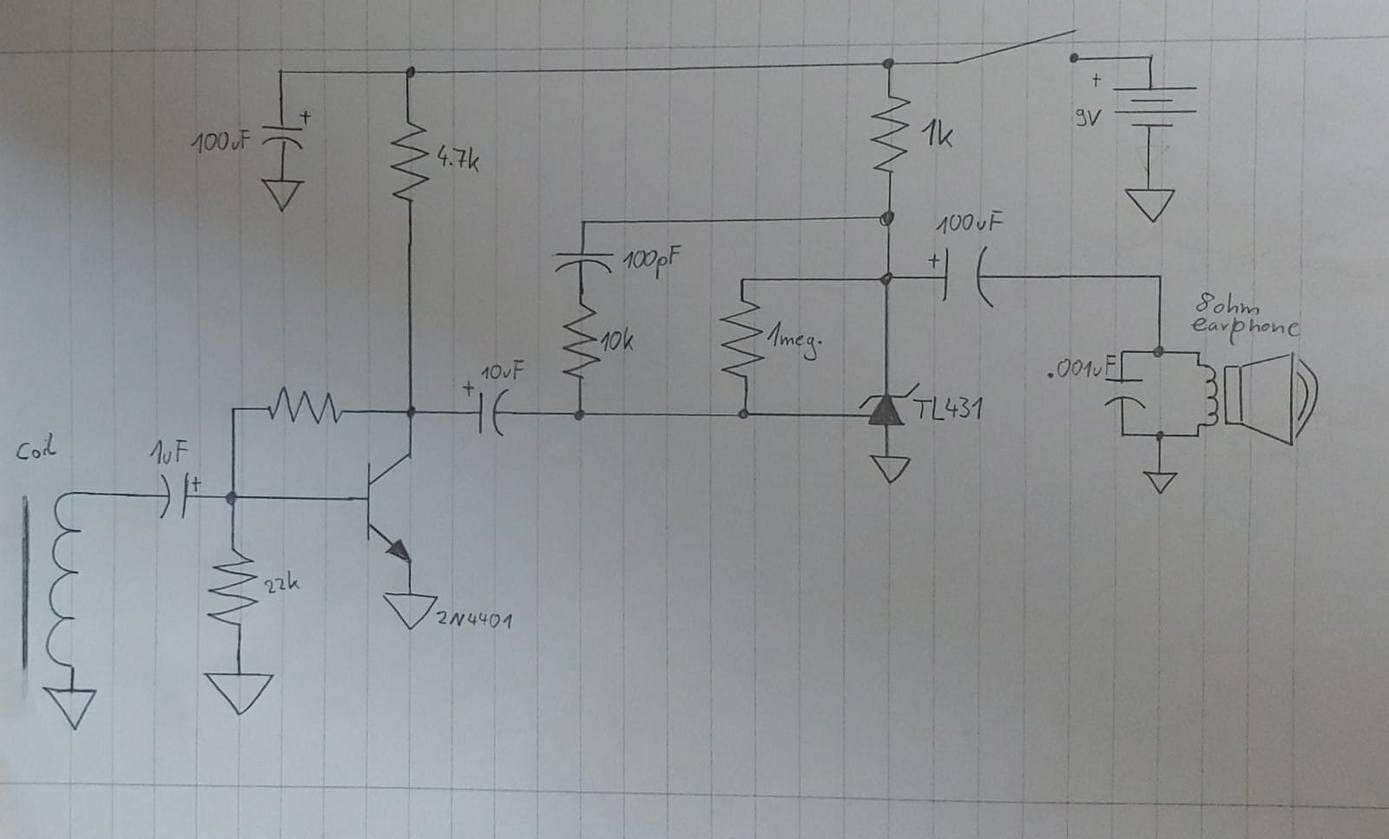capacitor.polarized: (926, 244, 997, 310), (461, 379, 511, 439), (155, 469, 205, 521), (259, 109, 315, 151)
capacitor.unpolarized: (548, 247, 619, 273), (1101, 377, 1148, 410)
gnd: (201, 668, 278, 718), (43, 685, 98, 733), (380, 589, 439, 631), (1122, 185, 1177, 224), (258, 175, 306, 213), (867, 452, 913, 486), (1141, 469, 1180, 495)
inductor.ferrite: (15, 486, 89, 676)
junction: (221, 486, 246, 511), (875, 206, 899, 230), (400, 60, 421, 83), (876, 54, 899, 74), (734, 402, 754, 424), (877, 267, 896, 289), (401, 400, 420, 421), (570, 405, 589, 424), (273, 62, 291, 80), (225, 400, 241, 419), (1142, 50, 1158, 65), (1150, 344, 1166, 358), (1153, 429, 1166, 442), (577, 216, 589, 229), (736, 273, 748, 285), (1154, 271, 1166, 282), (1118, 347, 1128, 357), (1118, 429, 1127, 439)
resistor: (206, 545, 259, 628), (718, 296, 765, 383), (387, 116, 431, 205), (868, 89, 912, 176), (558, 298, 600, 385), (264, 383, 346, 426)
speaker: (1192, 348, 1322, 449)
switch: (955, 27, 1083, 66)
text: (1189, 316, 1302, 345), (764, 318, 825, 363), (618, 242, 684, 281), (1044, 352, 1118, 382), (912, 393, 986, 423), (932, 207, 1004, 236), (431, 607, 515, 631), (187, 126, 253, 155), (1194, 288, 1262, 316), (432, 141, 484, 176), (12, 430, 60, 463), (918, 115, 958, 149), (146, 436, 189, 466), (474, 359, 527, 383), (599, 325, 638, 354), (260, 569, 301, 596), (1071, 106, 1104, 129)
thyristor: (856, 380, 923, 429)
transistor.bjt: (362, 448, 420, 566)
voltage.battery: (1090, 71, 1201, 132)
